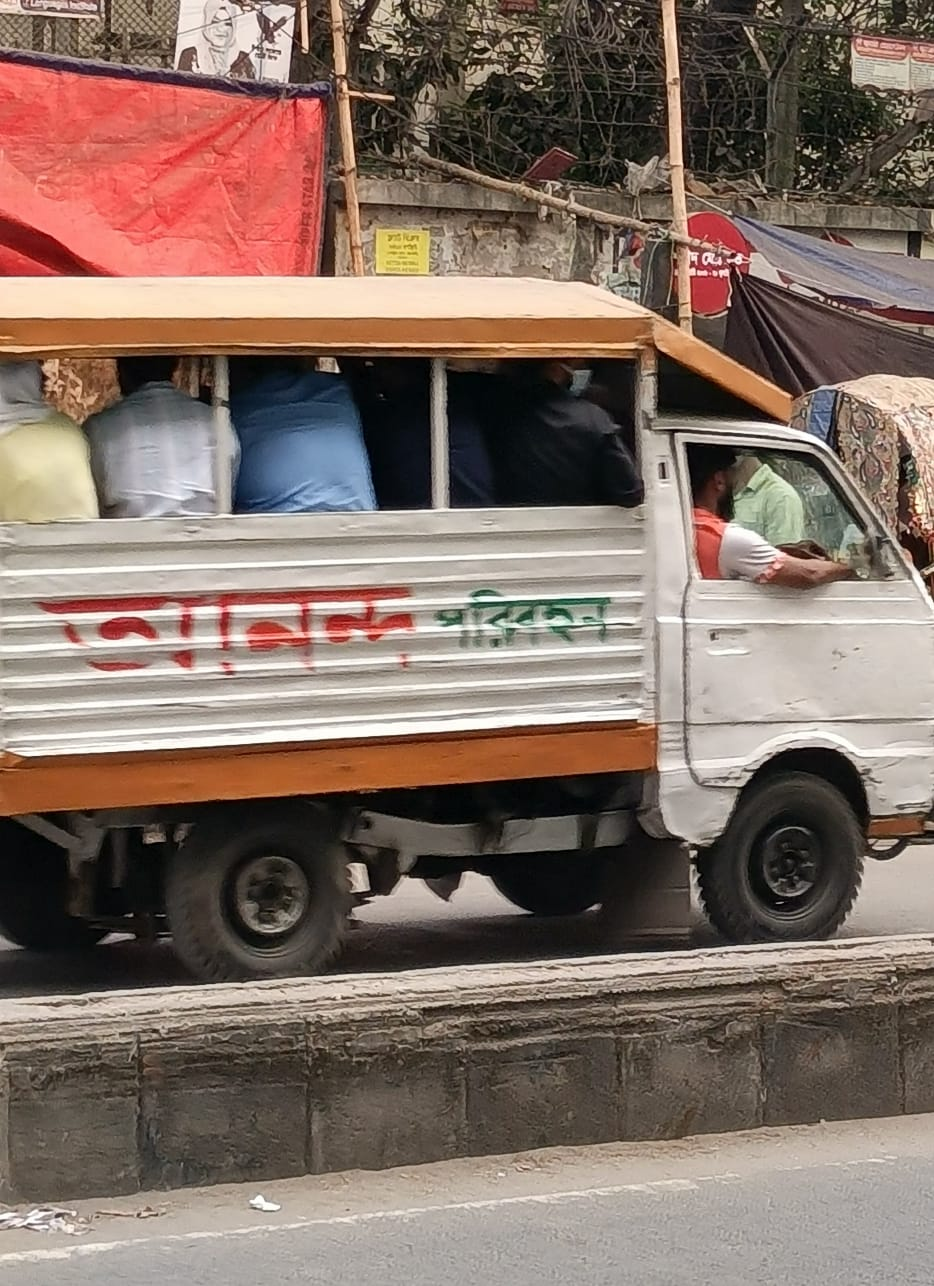Leguna: (0, 258, 931, 970)
